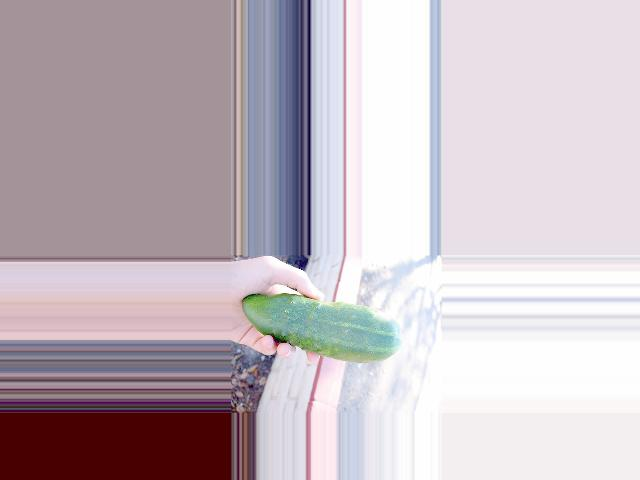cucumber: (242, 294, 401, 364)
